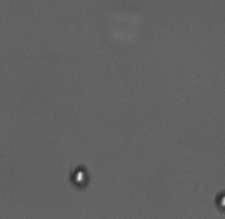Living Cell: (69, 165, 88, 188)
